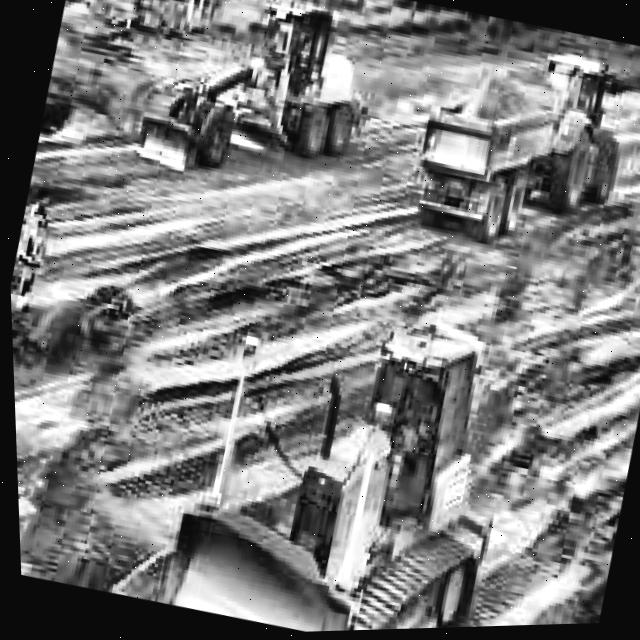dump_truck: (397, 12, 640, 269)
